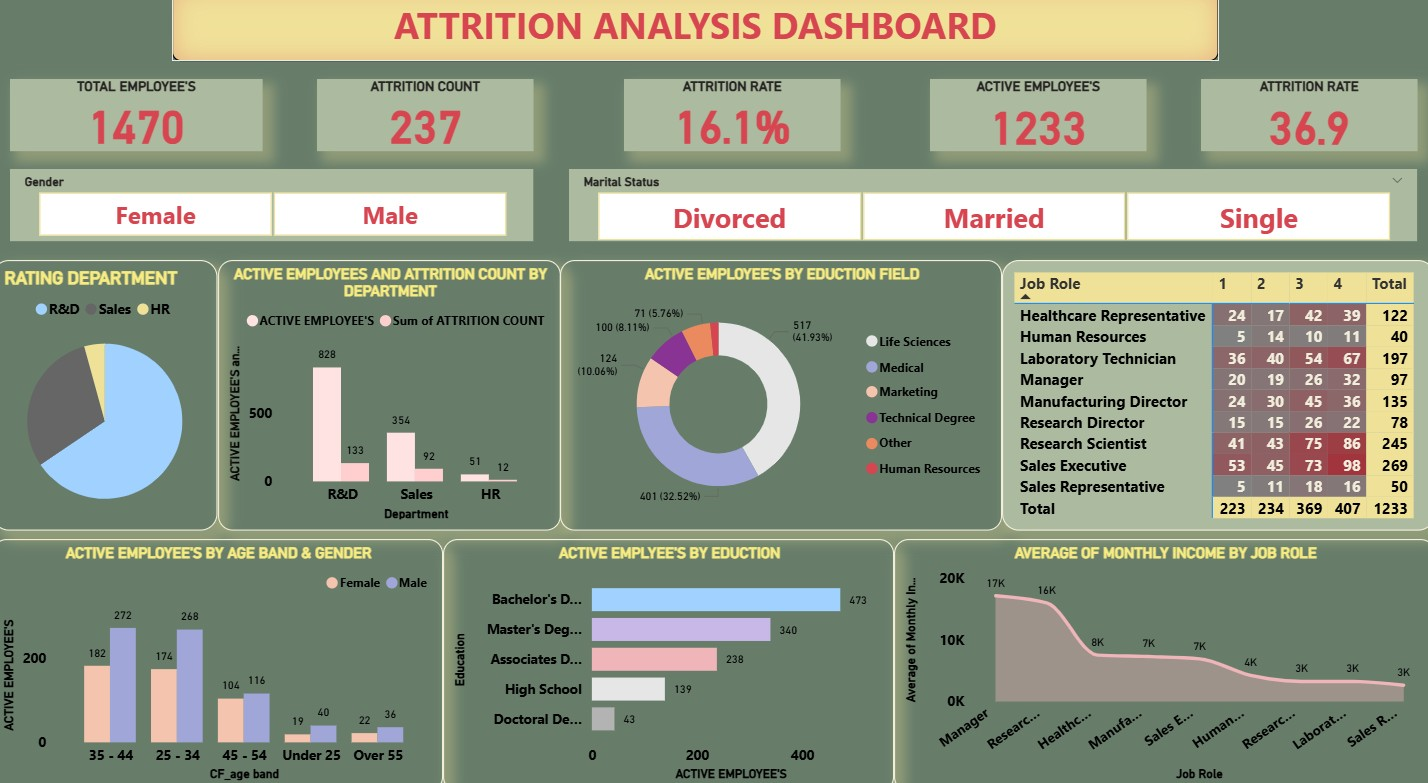

The dashboard page shown, as its layout file describes it:
{"tool":"powerbi","page":{"name":"ATTRITION ANALYSIS DASHBOARD","canvas":[1280,720],"ordinal":0},"visuals":[{"type":"card","title":"ATTRITION COUNT","fields":{"Values":["Sum(HR FILE.ATTRITION COUNT)"]},"box":[288,80,192,64],"z":0},{"type":"card","title":"TOTAL EMPLOYEE''S","fields":{"Values":["Sum(HR FILE.Employee Count)"]},"box":[16,80,224,64],"z":1000},{"type":"card","title":"ATTRITION RATE","fields":{"Values":["_MEASURES_.ATTRITION RATE"]},"box":[560,80,192,64],"z":2000},{"type":"card","title":"ACTIVE EMPLOYEE''S","fields":{"Values":["_MEASURES_.ACTIVE EMPLOYEE'S"]},"box":[832,80,192,64],"z":3000},{"type":"card","title":"ATTRITION RATE","fields":{"Values":["Avg(HR FILE.Age)"]},"box":[1072,80,192,64],"z":4000},{"type":"clusteredColumnChart","title":"ACTIVE EMPLOYEES AND ATTRITION COUNT BY DEPARTMENT","fields":{"Category":["HR FILE.Department"],"Y":["_MEASURES_.ACTIVE EMPLOYEE'S","Sum(HR FILE.ATTRITION COUNT)"]},"box":[200,240,304,240],"z":5000},{"type":"donutChart","title":"ACTIVE EMPLOYEE''S BY EDUCTION FIELD","fields":{"Y":["_MEASURES_.ACTIVE EMPLOYEE'S"],"Category":["HR FILE.Education Field"]},"box":[504,240,392,240],"z":6000},{"type":"clusteredColumnChart","title":"ACTIVE EMPLOYEE''S BY AGE BAND & GENDER","fields":{"Y":["_MEASURES_.ACTIVE EMPLOYEE'S"],"Category":["HR FILE.CF_age band"],"Series":["HR FILE.Gender"]},"box":[0,488,400,224],"z":7000},{"type":"pivotTable","fields":{"Rows":["HR FILE.Job Role"],"Columns":["HR FILE.Job Satisfaction"],"Values":["_MEASURES_.ACTIVE EMPLOYEE'S"]},"box":[896,240,384,240],"z":8000},{"type":"pieChart","title":"RATING DEPARTMENT","fields":{"Y":["Sum(HR FILE.Performance Rating)"],"Category":["HR FILE.Department"]},"box":[0,240,200,240],"z":9000},{"type":"clusteredBarChart","title":"ACTIVE EMPLYEE''S BY EDUCTION","fields":{"Category":["HR FILE.Education"],"Y":["_MEASURES_.ACTIVE EMPLOYEE'S"]},"box":[400,488,400,224],"z":10000},{"type":"areaChart","title":"AVERAGE OF MONTHLY INCOME BY JOB ROLE","fields":{"Category":["HR FILE.Job Role"],"Y":["Avg(HR FILE.Monthly Income)"]},"box":[800,488,480,224],"z":11000},{"type":"slicer","fields":{"Values":["HR FILE.Gender"]},"box":[16,160,464,64],"z":12000},{"type":"slicer","fields":{"Values":["HR FILE.Marital Status"]},"box":[512,160,752,64],"z":13000},{"type":"textbox","box":[160,0,928,64],"z":14000}]}

Visuals, with their boxes in screenshot pixels (x1, y1, x2, y2), scaled from the page's 1280x720 canvas onto the 1428x783 screenshot:
"ATTRITION COUNT" card: <bbox>321, 87, 536, 157</bbox>
"TOTAL EMPLOYEE''S" card: <bbox>18, 87, 268, 157</bbox>
"ATTRITION RATE" card: <bbox>625, 87, 839, 157</bbox>
"ACTIVE EMPLOYEE''S" card: <bbox>928, 87, 1142, 157</bbox>
"ATTRITION RATE" card: <bbox>1196, 87, 1410, 157</bbox>
"ACTIVE EMPLOYEES AND ATTRITION COUNT BY DEPARTMENT" clusteredColumnChart: <bbox>223, 261, 562, 522</bbox>
"ACTIVE EMPLOYEE''S BY EDUCTION FIELD" donutChart: <bbox>562, 261, 1000, 522</bbox>
"ACTIVE EMPLOYEE''S BY AGE BAND & GENDER" clusteredColumnChart: <bbox>0, 531, 446, 774</bbox>
pivotTable - HR FILE.Job Role x HR FILE.Job Satisfaction: <bbox>1000, 261, 1427, 522</bbox>
"RATING DEPARTMENT" pieChart: <bbox>0, 261, 223, 522</bbox>
"ACTIVE EMPLYEE''S BY EDUCTION" clusteredBarChart: <bbox>446, 531, 893, 774</bbox>
"AVERAGE OF MONTHLY INCOME BY JOB ROLE" areaChart: <bbox>893, 531, 1427, 774</bbox>
slicer - HR FILE.Gender: <bbox>18, 174, 536, 244</bbox>
slicer - HR FILE.Marital Status: <bbox>571, 174, 1410, 244</bbox>
textbox: <bbox>178, 0, 1214, 70</bbox>
